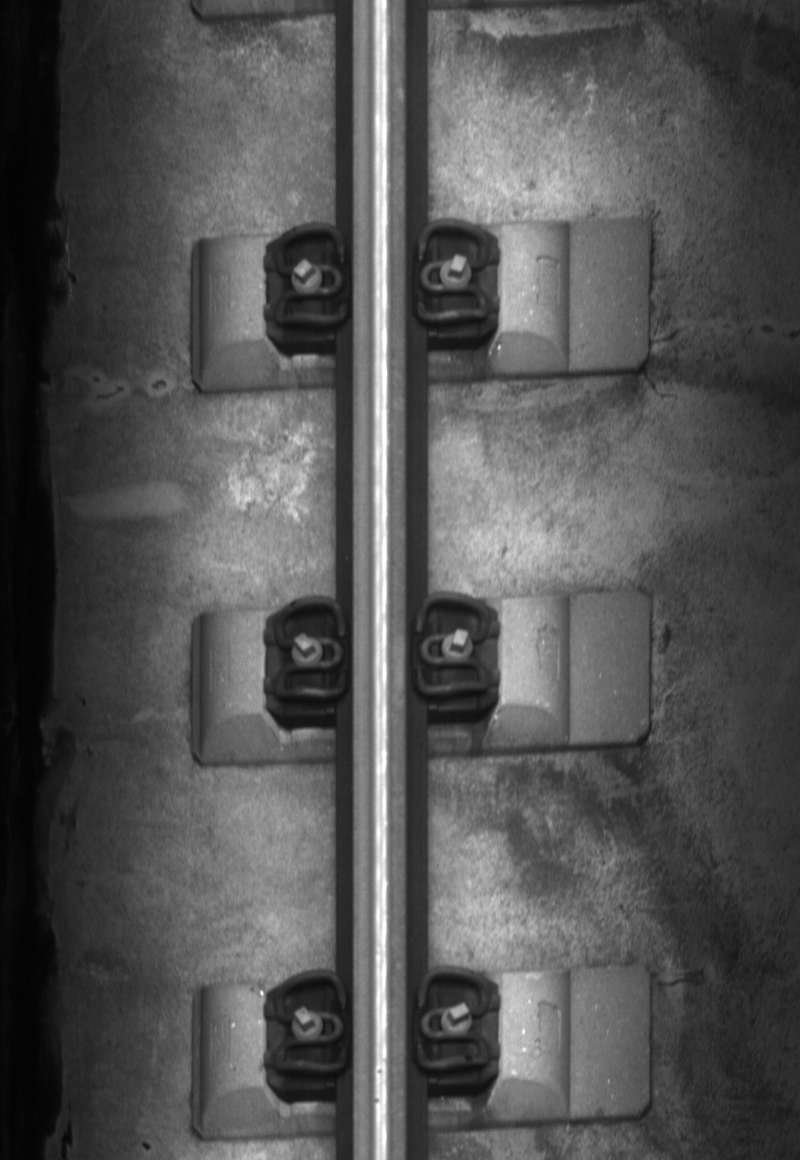l_faster: (267, 964, 353, 1080), (268, 591, 352, 707), (269, 218, 352, 334)
r_faster: (410, 590, 492, 700), (411, 965, 492, 1076), (412, 216, 491, 326)
